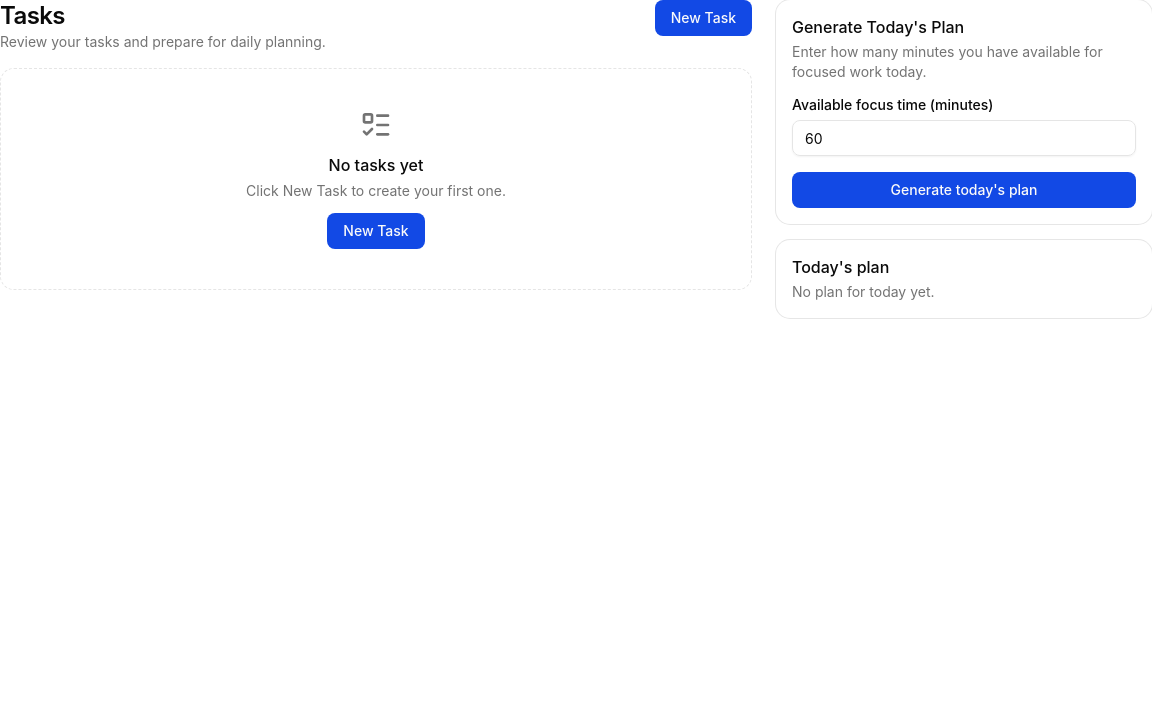
Scenario: DashboardPage › opens the create-task sheet when New Task is clicked
What coordinates should you click on to do the following:
click the 1st button "New Task"
I would click on:
 (703, 18)
Its box is [655,0,752,36].
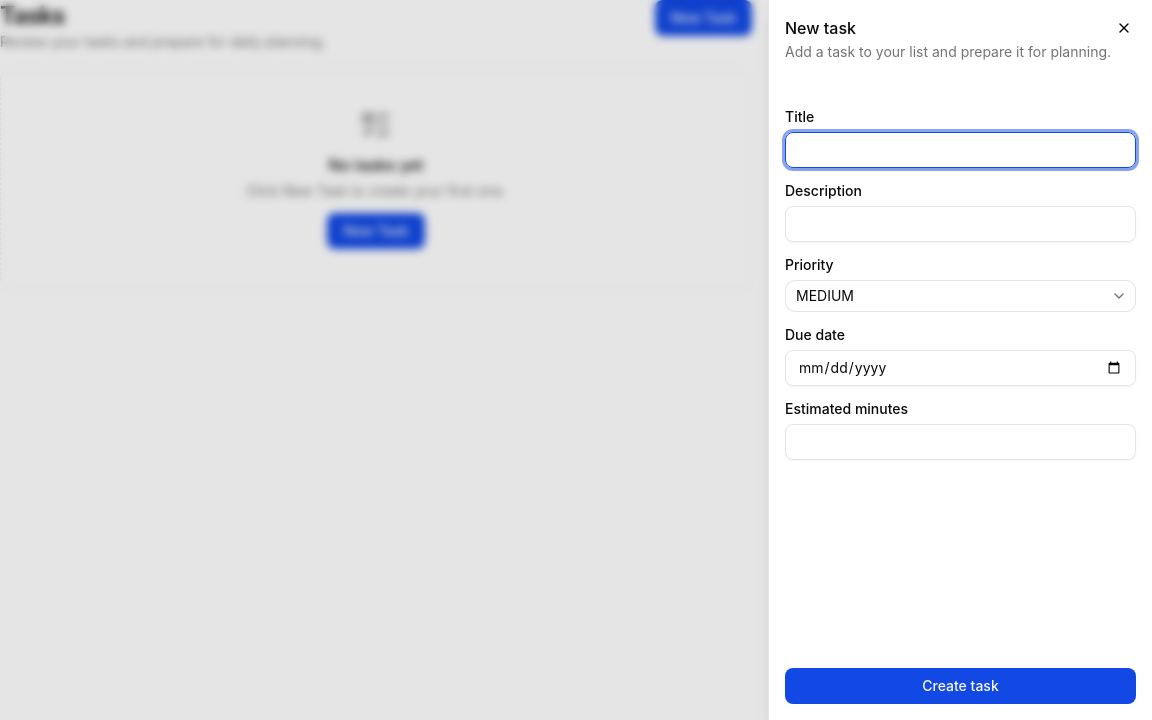
Now the dialog is shown, box [768,0,1151,719]
Now the heading "New task" is shown, box [785,18,856,38]
